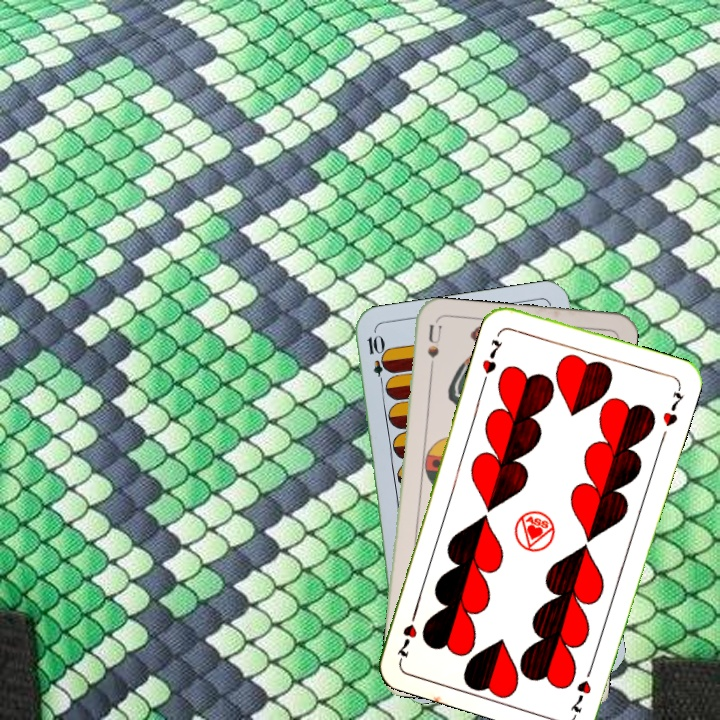E10: (363, 331, 389, 390)
H7: (566, 660, 596, 718), (478, 335, 506, 377)
SU: (423, 322, 443, 381)
